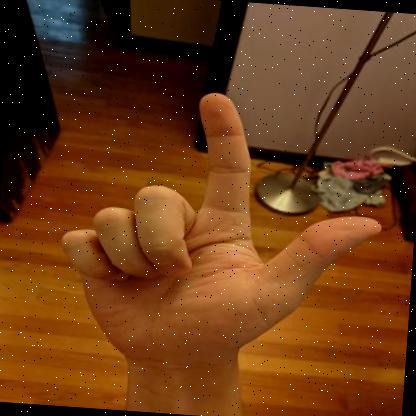L: (61, 93, 382, 370)
